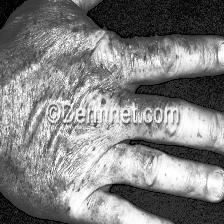Benign Marking or Mole: (10, 24, 118, 85), (7, 129, 85, 180)
